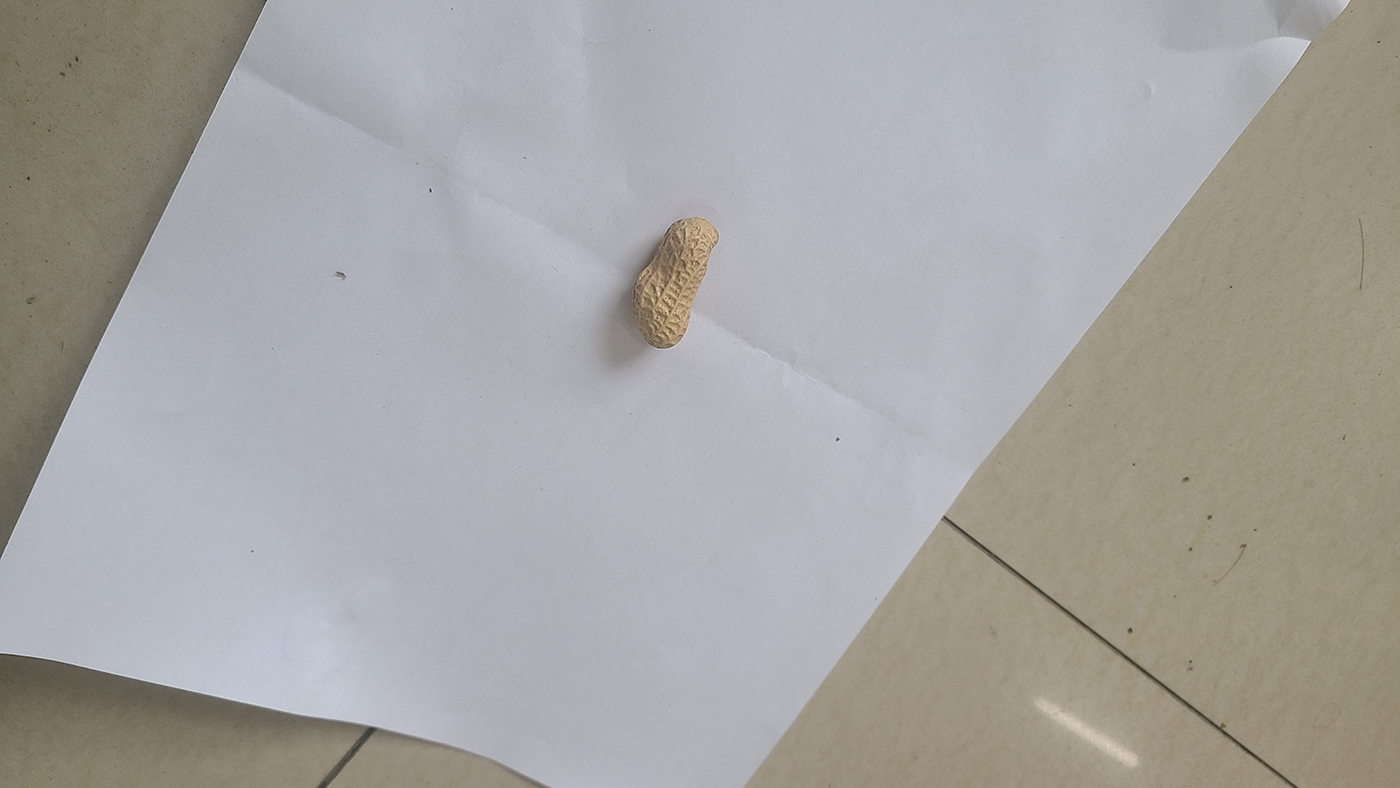h: (631, 216, 719, 349)
